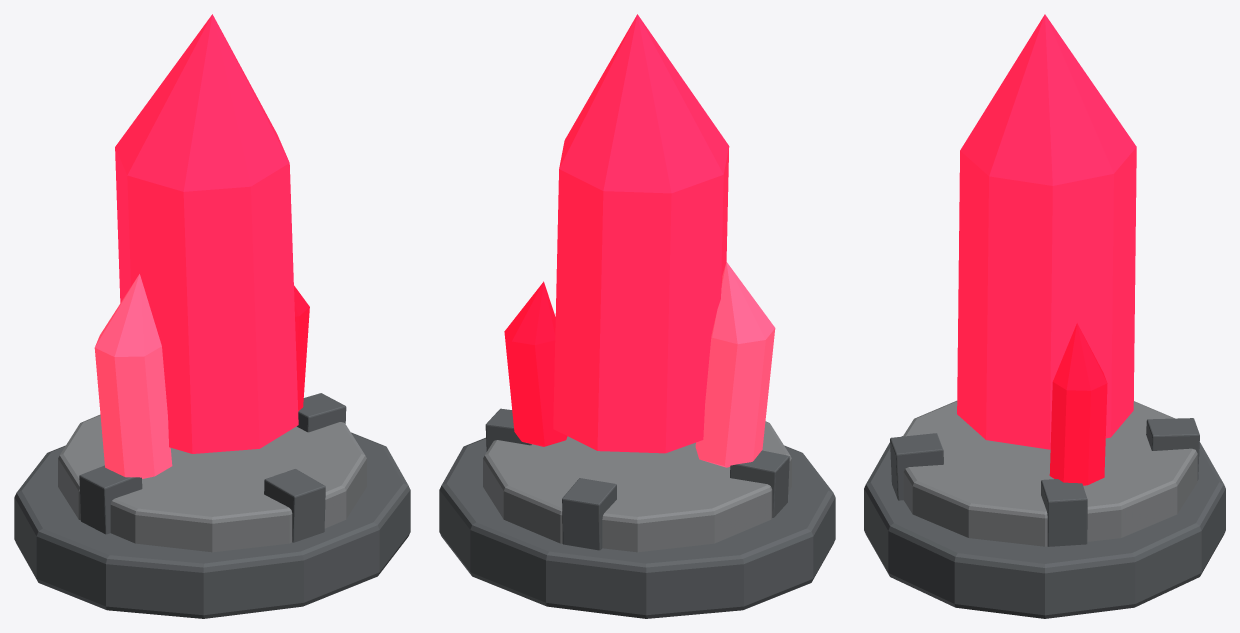
File: Realistic_MagicStone_B.fbx
3 views of the same model, side by side, from view 1: azimuth 30°, elevation 25°; view 2: azimuth 150°, elevation 25°; view 3: azimuth 270°, elevation 25° (orthographic).
Parts seen in each view (by area): view 1: Crystal.005, Pedestal.005, Pedestal_Ring.003, Crystal_Shard_A.004, Pedestal_Buttress_3, Pedestal_Buttress_2, Pedestal_Buttress_0, Crystal_Shard_B.004; view 2: Crystal.005, Pedestal.005, Pedestal_Ring.003, Crystal_Shard_A.004, Crystal_Shard_B.004, Pedestal_Buttress_1, Pedestal_Buttress_2, Pedestal_Buttress_0; view 3: Crystal.005, Pedestal.005, Pedestal_Ring.003, Crystal_Shard_B.004, Pedestal_Buttress_0, Pedestal_Buttress_3, Pedestal_Buttress_1.
Part boxes in pixels (x1,y1,x2,y2): Crystal.005: (115, 14, 298, 453); Pedestal.005: (14, 432, 410, 618); Pedestal_Ring.003: (58, 414, 366, 552); Crystal_Shard_A.004: (94, 274, 172, 478); Pedestal_Buttress_3: (264, 469, 325, 542); Pedestal_Buttress_2: (79, 465, 142, 534); Pedestal_Buttress_0: (297, 393, 346, 432); Crystal_Shard_B.004: (294, 285, 309, 411); Crystal.005: (553, 14, 729, 453); Pedestal.005: (439, 437, 835, 618); Pedestal_Ring.003: (483, 421, 791, 552); Crystal_Shard_A.004: (695, 262, 775, 467); Crystal_Shard_B.004: (504, 281, 567, 446); Pedestal_Buttress_1: (562, 478, 616, 550); Pedestal_Buttress_2: (730, 450, 789, 517); Pedestal_Buttress_0: (485, 408, 531, 451); Crystal.005: (957, 14, 1136, 449); Pedestal.005: (864, 436, 1225, 618); Pedestal_Ring.003: (903, 400, 1197, 546); Crystal_Shard_B.004: (1049, 323, 1107, 485); Pedestal_Buttress_0: (1041, 479, 1087, 546); Pedestal_Buttress_3: (890, 433, 943, 500); Pedestal_Buttress_1: (1146, 418, 1199, 480).
Size of the model in its own units: 2 by 2.87 by 1.8.
